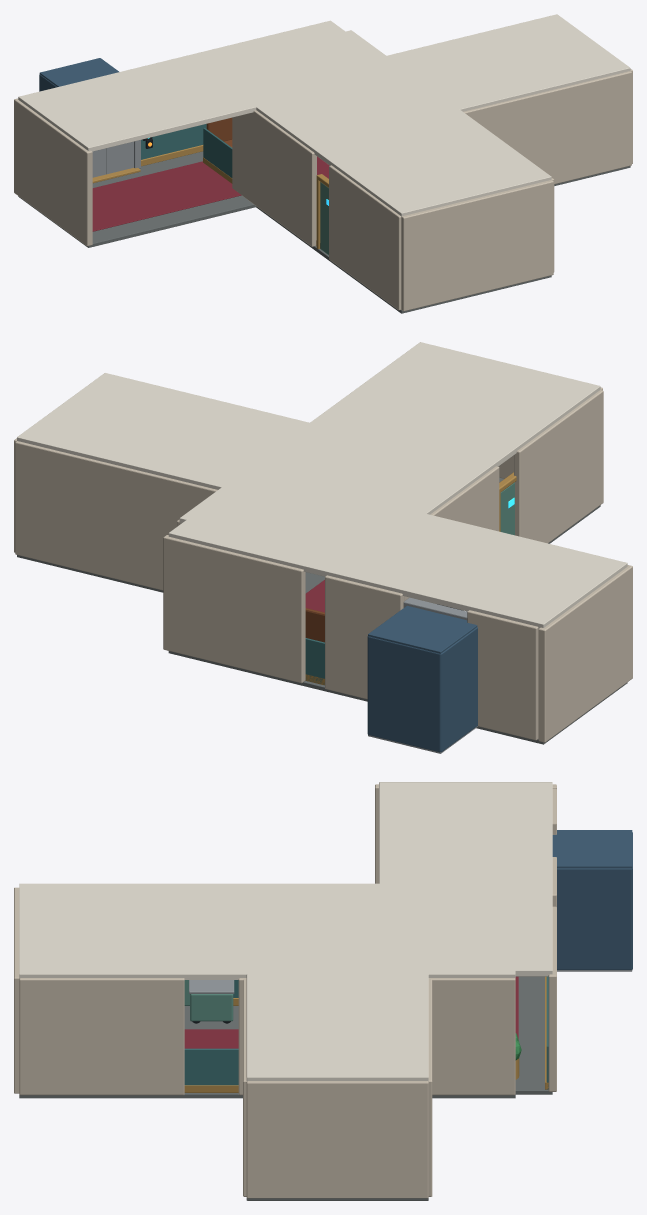
Rendered from apartment_floor_03.glb.
The picture shows the model from 3 angles, top to bottom: view 1: azimuth 30°, elevation 25°; view 2: azimuth 150°, elevation 25°; view 3: azimuth 270°, elevation 25°; orthographic projection. The views are drawn at different scales.
Parts seen in each view (by area): view 1: CUTAWAY_Ceiling_Main, CUTAWAY_Ceiling_Lobby, CUTAWAY_Hallway_South, CUTAWAY_Ceiling_Side, SET_Hallway_Side_Wall_S, SET_Hallway_Main_Wall_W_B, SET_Elevator_Lobby_Wall_W, SET_Hallway_Main_Wall_W_A, SET_Elevator_Lobby_Inlay, SET_Elevator_Lobby_Floor, SET_Elevator_Lobby_Wainscot_N_Right, SET_Elevator_Cabin_Ceiling (+6 smaller); view 2: CUTAWAY_Ceiling_Main, CUTAWAY_Ceiling_Lobby, SET_Hallway_Side_Wall_N, CUTAWAY_Ceiling_Side, SET_Elevator_Lobby_Wall_N_C, SET_Elevator_Lobby_Wall_W, SET_Hallway_Main_Wall_W_A, CUTAWAY_Elevator_Back, SET_Elevator_Lobby_Wall_N_A, SET_Elevator_Lobby_Wall_N_B, SET_Elevator_Cabin_Left, SET_Elevator_Cabin_Ceiling (+6 smaller); view 3: CUTAWAY_Ceiling_Main, CUTAWAY_Ceiling_Lobby, SET_Hallway_Side_Wall_End, CUTAWAY_Ceiling_Side, SET_Hallway_Main_Wall_E_A, SET_Hallway_Main_Wall_E_C, SET_Elevator_Cabin_Right, SET_Elevator_Lobby_Floor, SET_Elevator_Cabin_Ceiling, SET_Hallway_Main_Wainscot_E, SET_Hallway_Main_Floor, SET_Elevator_Lobby_Wall_N_C (+7 smaller).
Boxes of the visible parts, x1,y1,x2,y2 form: CUTAWAY_Ceiling_Main: (205, 30, 551, 216); CUTAWAY_Ceiling_Lobby: (18, 20, 399, 151); CUTAWAY_Hallway_South: (401, 180, 553, 311); CUTAWAY_Ceiling_Side: (385, 14, 630, 111); SET_Hallway_Side_Wall_S: (463, 71, 631, 184); SET_Hallway_Main_Wall_W_B: (232, 110, 316, 246); SET_Elevator_Lobby_Wall_W: (14, 98, 92, 246); SET_Hallway_Main_Wall_W_A: (329, 165, 401, 310); SET_Elevator_Lobby_Inlay: (92, 161, 241, 231); SET_Elevator_Lobby_Floor: (18, 151, 256, 247); SET_Elevator_Lobby_Wainscot_N_Right: (141, 124, 206, 159); SET_Elevator_Cabin_Ceiling: (39, 58, 118, 86); CUTAWAY_Ceiling_Main: (179, 342, 600, 555); CUTAWAY_Ceiling_Lobby: (168, 472, 627, 628); SET_Hallway_Side_Wall_N: (15, 441, 217, 590); CUTAWAY_Ceiling_Side: (17, 373, 310, 489); SET_Elevator_Lobby_Wall_N_C: (163, 535, 305, 683); SET_Elevator_Lobby_Wall_W: (538, 565, 632, 742); SET_Hallway_Main_Wall_W_A: (514, 390, 603, 543); CUTAWAY_Elevator_Back: (368, 636, 440, 752); SET_Elevator_Lobby_Wall_N_A: (467, 610, 538, 740); SET_Elevator_Lobby_Wall_N_B: (325, 575, 404, 699); SET_Elevator_Cabin_Left: (440, 627, 477, 752); SET_Elevator_Cabin_Ceiling: (368, 605, 477, 653); CUTAWAY_Ceiling_Main: (19, 883, 515, 979); CUTAWAY_Ceiling_Lobby: (379, 782, 552, 976); SET_Hallway_Side_Wall_End: (246, 1081, 428, 1198); CUTAWAY_Ceiling_Side: (246, 972, 428, 1081); SET_Hallway_Main_Wall_E_A: (19, 978, 184, 1095); SET_Hallway_Main_Wall_E_C: (428, 978, 515, 1095); SET_Elevator_Cabin_Right: (557, 868, 632, 969); SET_Elevator_Lobby_Floor: (515, 976, 552, 1094); SET_Elevator_Cabin_Ceiling: (552, 830, 632, 868); SET_Hallway_Main_Wainscot_E: (184, 1048, 238, 1085); SET_Hallway_Main_Floor: (19, 1006, 515, 1098); SET_Elevator_Lobby_Wall_N_C: (548, 906, 556, 1091).
Size of what is drawn, in the model's own units: 17.09 by 3.32 by 14.97.
